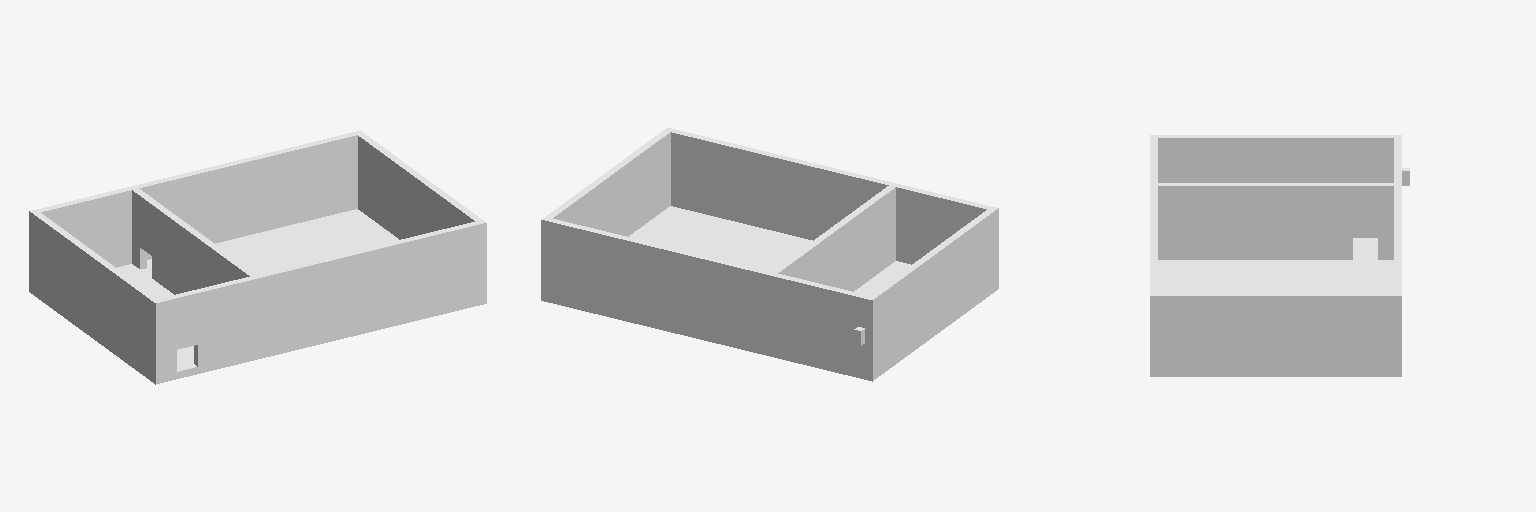
The model's file is 123yyy.obj.
3 views of the same model, side by side, from view 1: azimuth 30°, elevation 25°; view 2: azimuth 150°, elevation 25°; view 3: azimuth 270°, elevation 25° (orthographic).
Visible parts, largest first — view 1: object 1; view 2: object 1; view 3: object 1.
Boxes of the visible parts, box(x1,y1,x2,y2) form: object 1: box(29, 130, 486, 384); object 1: box(541, 127, 998, 381); object 1: box(1150, 135, 1409, 376).
Bounding box in the file's own units: 4.7 × 1.1 × 3.2.